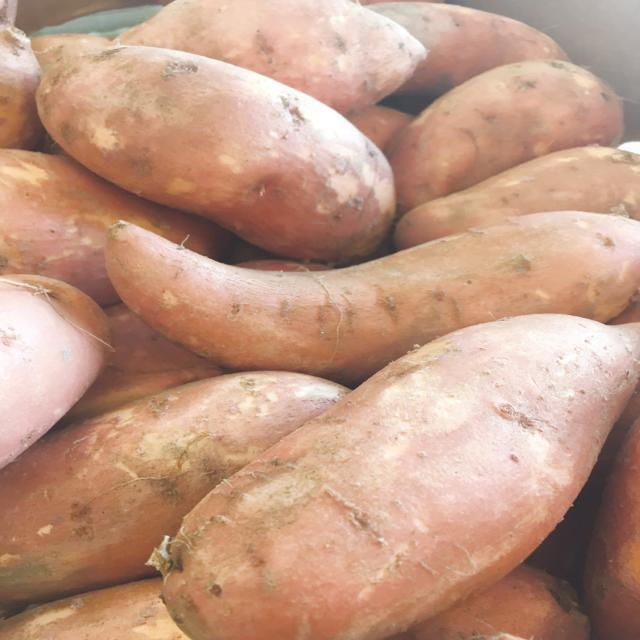sweet potato: (0, 0, 638, 640)
